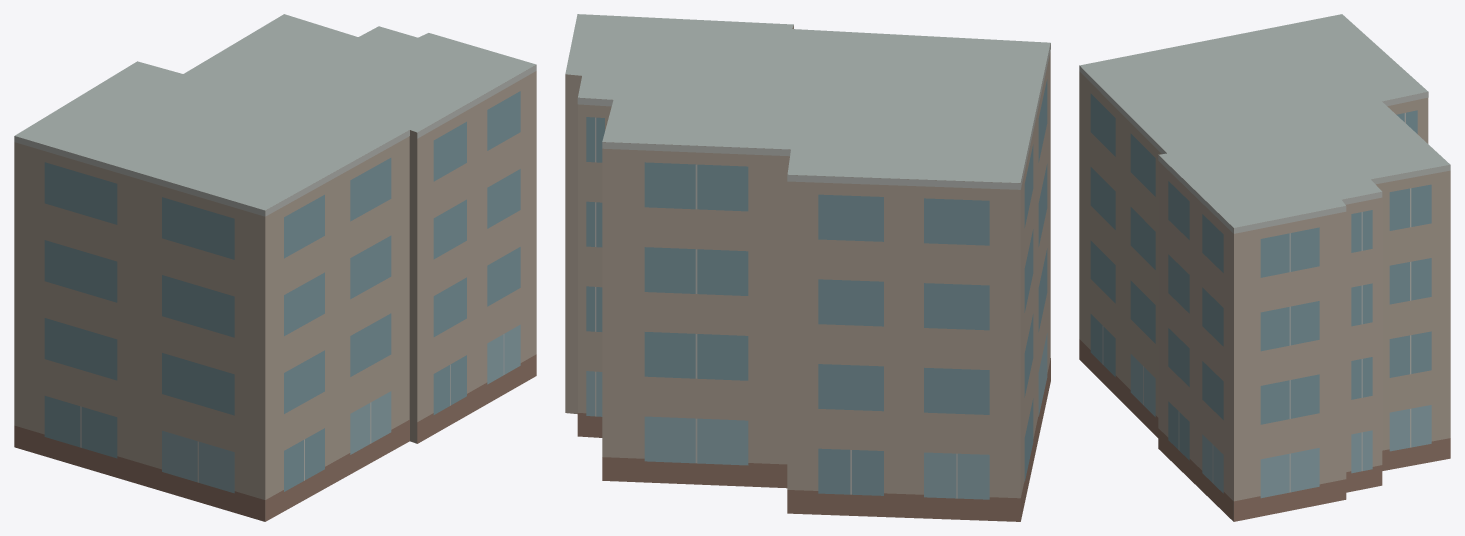
The model's file is survey-upis-32843569.glb.
3 views of the same model, side by side, from view 1: azimuth 30°, elevation 25°; view 2: azimuth 150°, elevation 25°; view 3: azimuth 270°, elevation 25° (orthographic). The views are drawn at different scales.
Parts seen in each view (by area): view 1: survey-upis-32843569.tmp; view 2: survey-upis-32843569.tmp; view 3: survey-upis-32843569.tmp.
Part boxes in pixels (<box>): survey-upis-32843569.tmp: <box>14,14,536,521</box>; survey-upis-32843569.tmp: <box>565,14,1050,521</box>; survey-upis-32843569.tmp: <box>1079,14,1450,521</box>.
Bounding box in the file's own units: 19.07 × 12.2 × 13.97.
